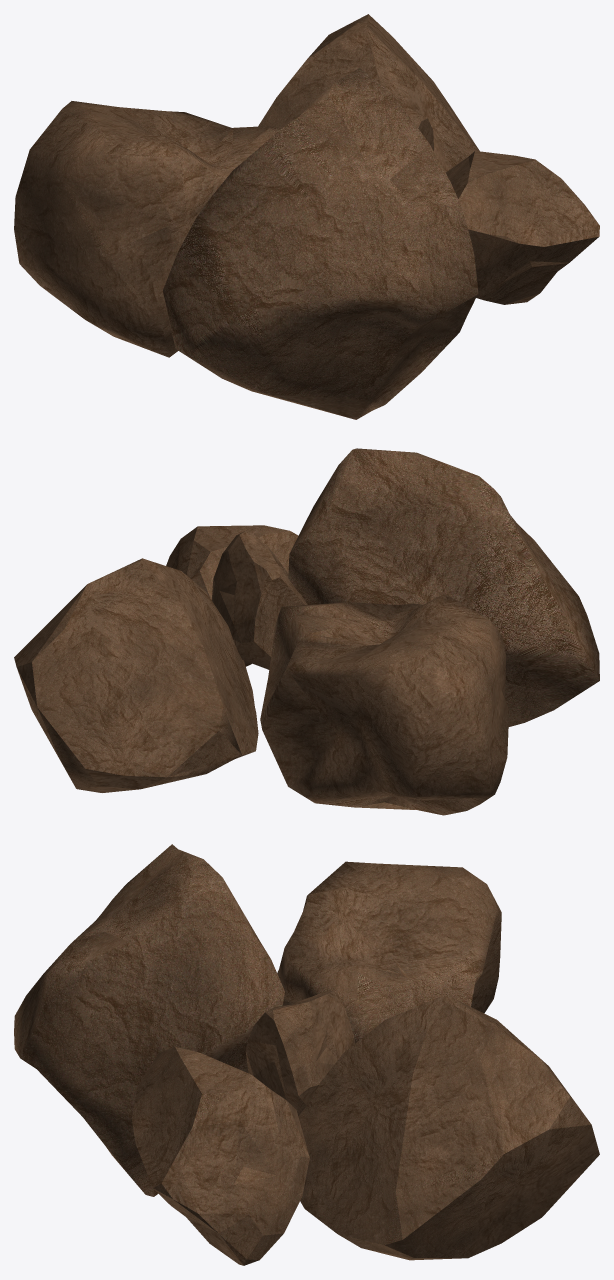
File: RockPile.FBX
The picture shows the model from 3 angles, top to bottom: view 1: azimuth 30°, elevation 25°; view 2: azimuth 150°, elevation 25°; view 3: azimuth 270°, elevation 25°; orthographic projection. The views are drawn at different scales.
Visible parts, largest first — view 1: GeoSphere005, GeoSphere007, GeoSphere008, GeoSphere009; view 2: GeoSphere007, GeoSphere005, GeoSphere009, GeoSphere010, GeoSphere008; view 3: GeoSphere009, GeoSphere005, GeoSphere007, GeoSphere008, GeoSphere010.
Part boxes in pixels (x1,y1,x2,y2): GeoSphere005: (163,68,478,419); GeoSphere007: (14,101,281,357); GeoSphere008: (445,151,599,304); GeoSphere009: (258,14,479,172); GeoSphere007: (260,593,509,815); GeoSphere005: (288,448,599,726); GeoSphere009: (14,558,258,792); GeoSphere010: (211,531,307,669); GeoSphere008: (166,525,298,666); GeoSphere009: (298,995,599,1260); GeoSphere005: (14,844,284,1196); GeoSphere007: (277,861,501,1043); GeoSphere008: (131,1046,309,1265); GeoSphere010: (245,990,354,1116).
Bounding box in the file's own units: 62.23 × 40.66 × 64.6.
1 material, 1 textured.
